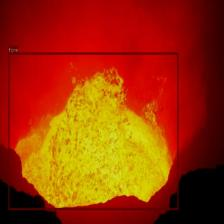fire: (8, 52, 178, 209)
